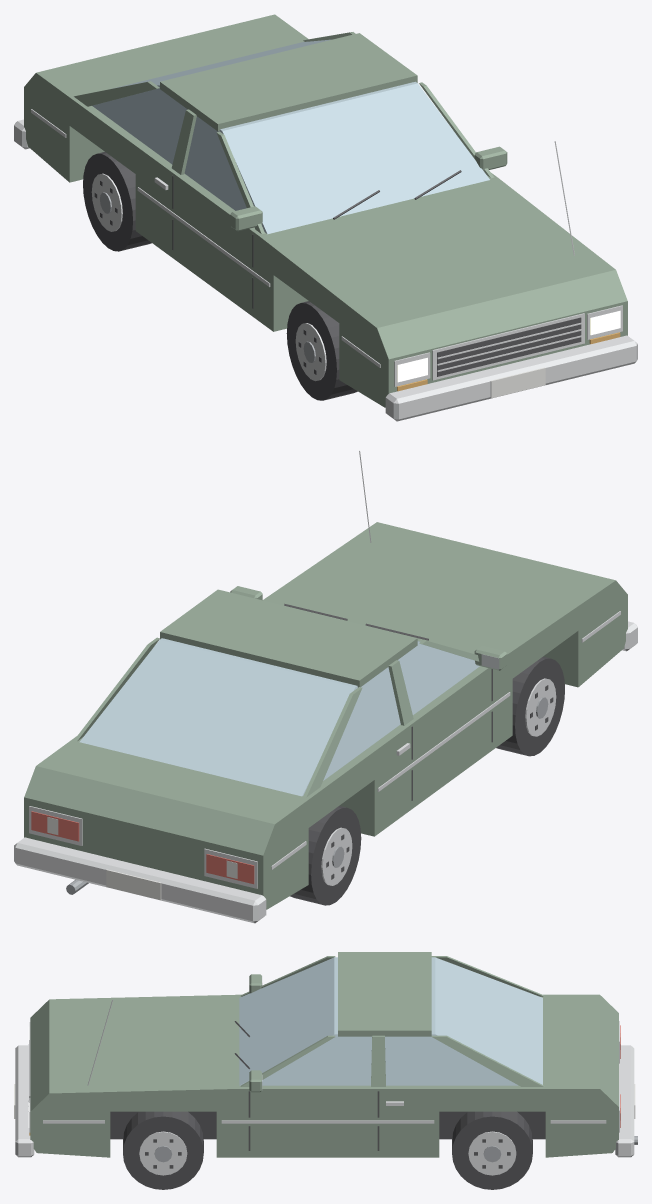
Rendered from car_coupe_g.glb.
3 renders of one model, top to bottom at view 1: azimuth 30°, elevation 25°; view 2: azimuth 150°, elevation 25°; view 3: azimuth 270°, elevation 25°, orthographic. The views are drawn at different scales.
Visible parts, largest first — view 1: car_coupe_g_car_g, car_coupe_g_glass, car_coupe_g_chrome, car_coupe_g_rubber, car_coupe_g_dark, car_coupe_g_lamp_glass, car_coupe_g_paint_w; view 2: car_coupe_g_car_g, car_coupe_g_glass, car_coupe_g_chrome, car_coupe_g_rubber, car_coupe_g_neon_r, car_coupe_g_paint_w, car_coupe_g_dark; view 3: car_coupe_g_car_g, car_coupe_g_glass, car_coupe_g_rubber, car_coupe_g_chrome, car_coupe_g_dark, car_coupe_g_steel.
Part boxes in pixels (box(x1,y1,x2,y2)): car_coupe_g_car_g: box(24, 14, 627, 407); car_coupe_g_glass: box(92, 39, 489, 234); car_coupe_g_chrome: box(14, 109, 637, 421); car_coupe_g_rubber: box(83, 152, 357, 400); car_coupe_g_dark: box(94, 170, 581, 376); car_coupe_g_lamp_glass: box(397, 310, 620, 382); car_coupe_g_paint_w: box(490, 367, 545, 398); car_coupe_g_car_g: box(24, 522, 627, 909); car_coupe_g_glass: box(79, 638, 479, 796); car_coupe_g_chrome: box(14, 450, 637, 923); car_coupe_g_rubber: box(290, 656, 564, 905); car_coupe_g_neon_r: box(31, 811, 254, 884); car_coupe_g_paint_w: box(47, 817, 237, 900); car_coupe_g_dark: box(284, 603, 553, 879); car_coupe_g_car_g: box(30, 952, 618, 1157); car_coupe_g_glass: box(239, 957, 542, 1085); car_coupe_g_rubber: box(110, 1111, 545, 1189); car_coupe_g_chrome: box(15, 1000, 634, 1175); car_coupe_g_dark: box(29, 1021, 510, 1168); car_coupe_g_steel: box(154, 1136, 637, 1162).
Size of the model in its own units: 2 by 1.6 by 4.93.
